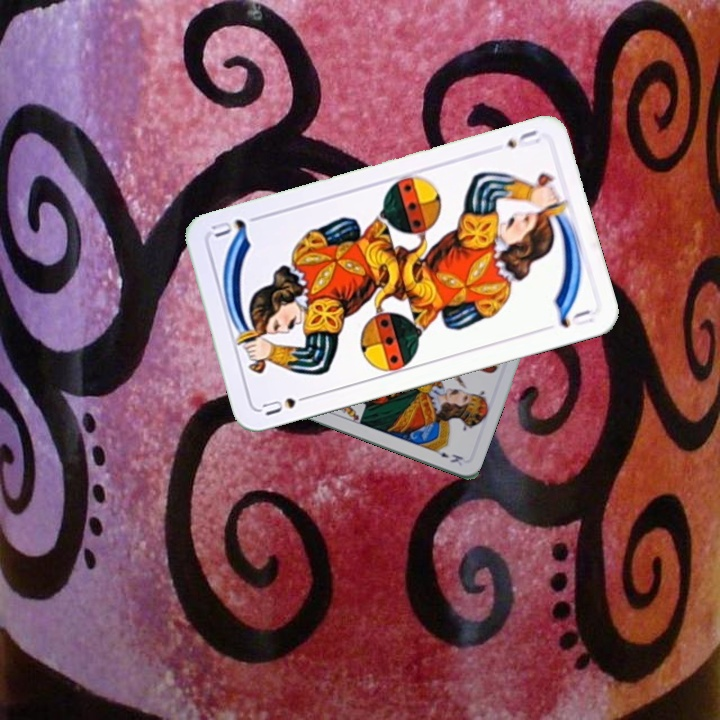SU: (258, 390, 315, 419), (502, 126, 543, 151)
